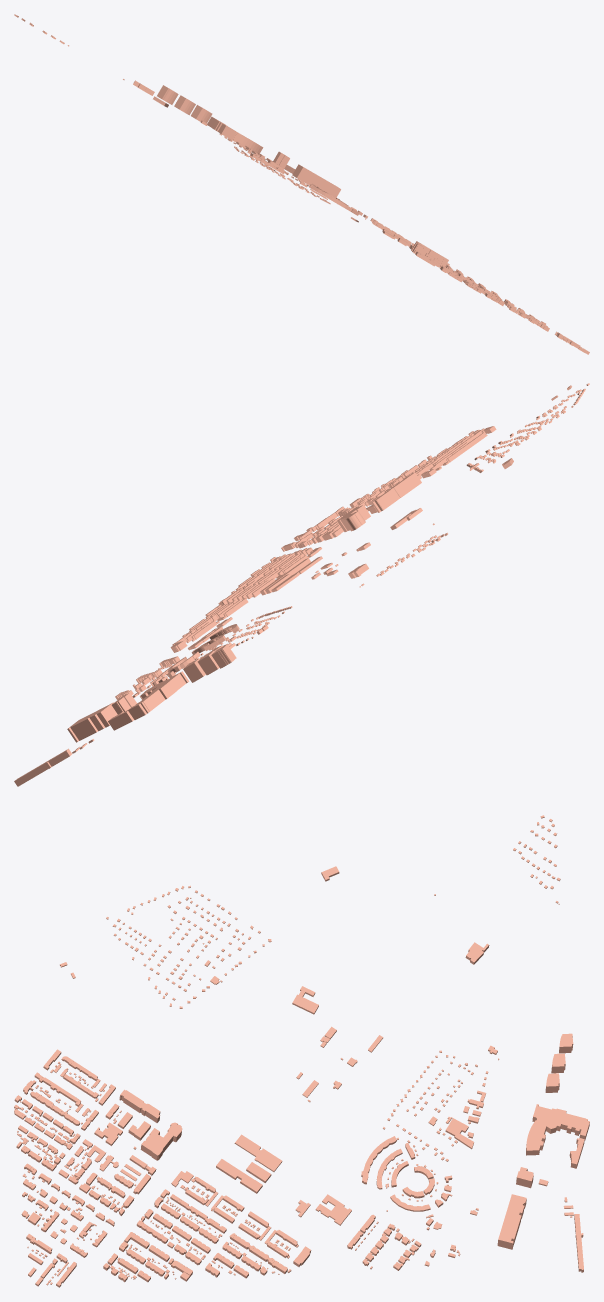
The picture shows the model from 3 angles, top to bottom: view 1: azimuth 30°, elevation 25°; view 2: azimuth 150°, elevation 25°; view 3: azimuth 270°, elevation 25°; orthographic projection. The views are drawn at different scales.
Size of the model in its own units: 945 by 675 by 1225.
